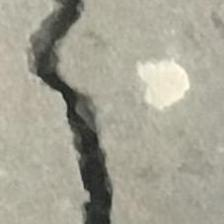Crack: (18, 1, 146, 224)
